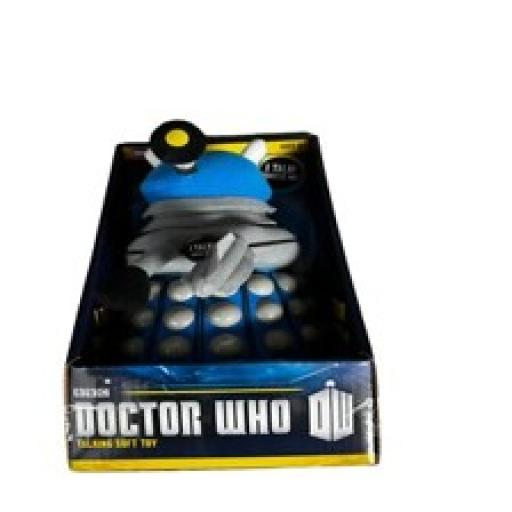dalek: (126, 119, 302, 343)
